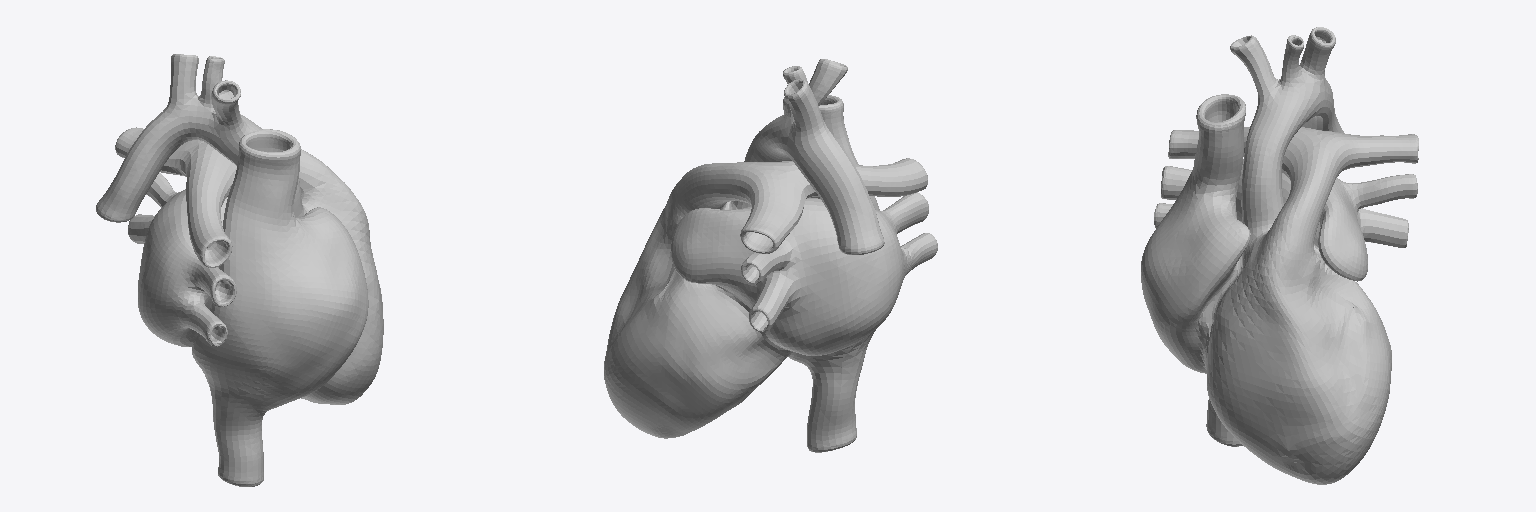
The picture shows the model from 3 angles: view 1: azimuth 30°, elevation 25°; view 2: azimuth 150°, elevation 25°; view 3: azimuth 270°, elevation 25°; orthographic projection.
Parts seen in each view (by area): view 1: HEART_PRO; view 2: HEART_PRO; view 3: HEART_PRO.
Part boxes in pixels (x1,y1,x2,y2): HEART_PRO: (96,54,383,486); HEART_PRO: (604,59,937,452); HEART_PRO: (1141,27,1418,484).
Bounding box in the file's own units: 583 × 832 × 521.